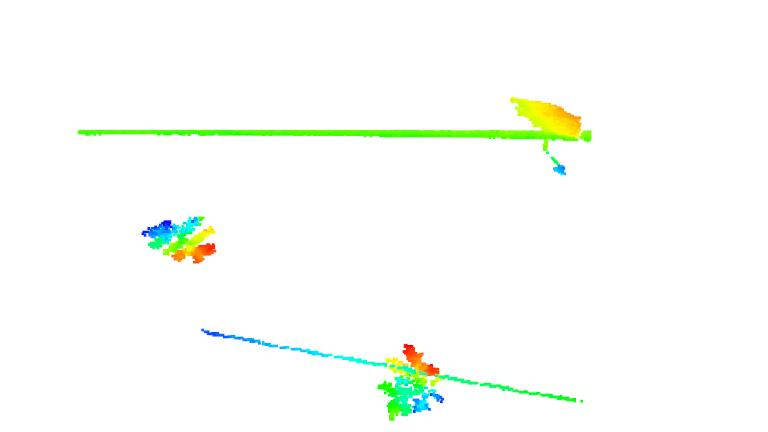chickpea: (373, 342, 447, 425), (139, 214, 219, 267)
